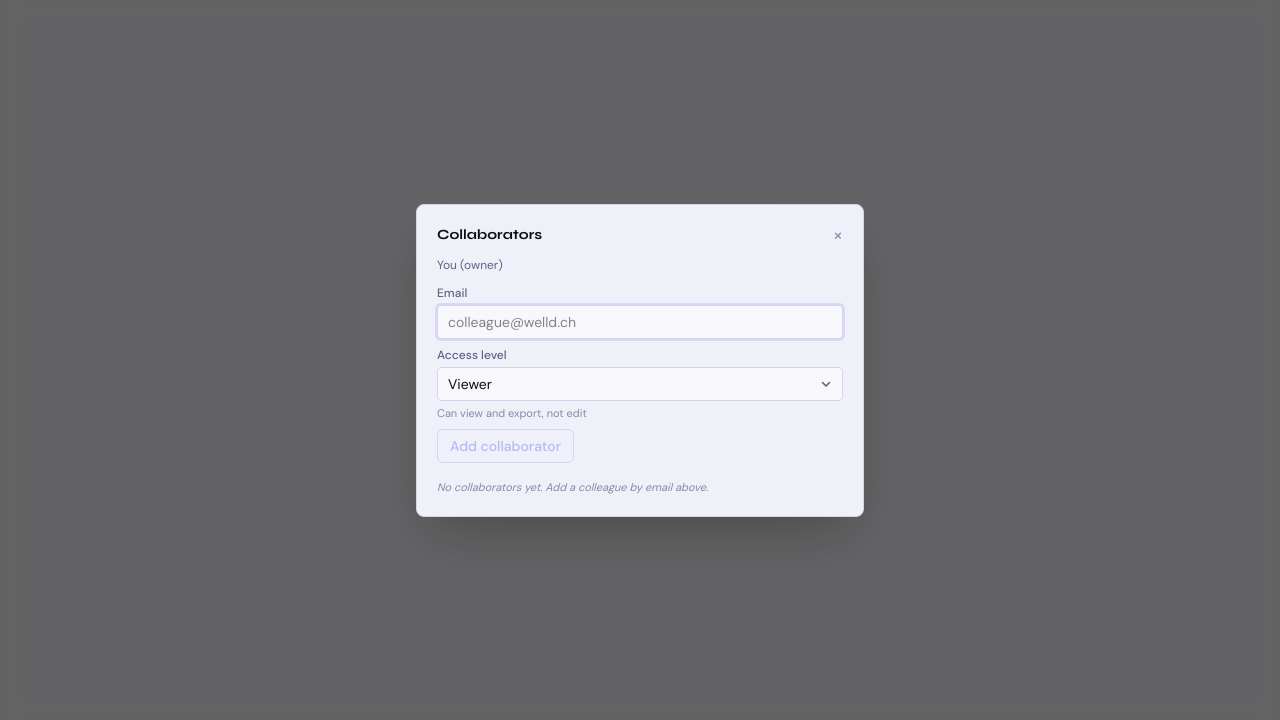
it: CollaboratorsDialog — owner mode (T20, specs/013) › generic 422 — no cause disclosed (AC-1.2) › renders the fixed notEligible copy and never the raw email or a cause word
Expected: the text "No collaborators yet. Add a colleague by email above." is shown, [437,480,708,494]
Type "nobody@example.com" into the field with test id "collaborators-dialog-email-input" at (640,322), box [437,304,843,338]
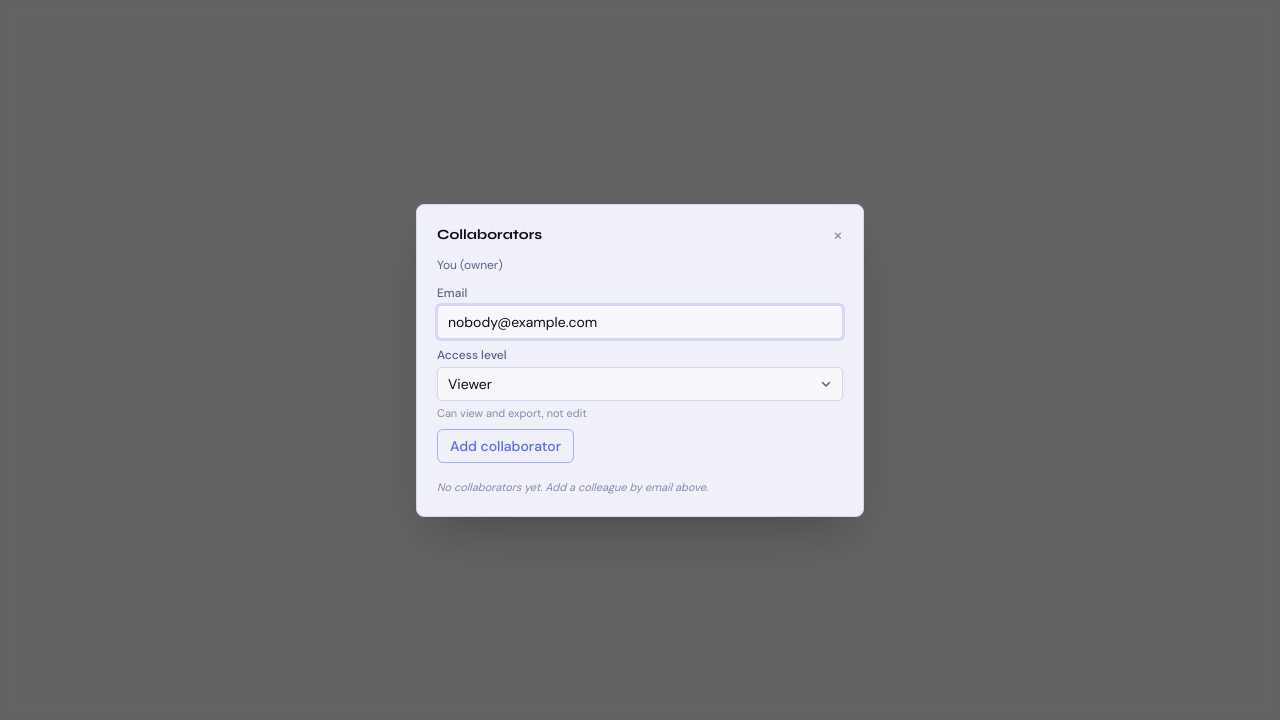
Click the button with test id "collaborators-dialog-add-button" at (506,446), box [437,429,574,463]
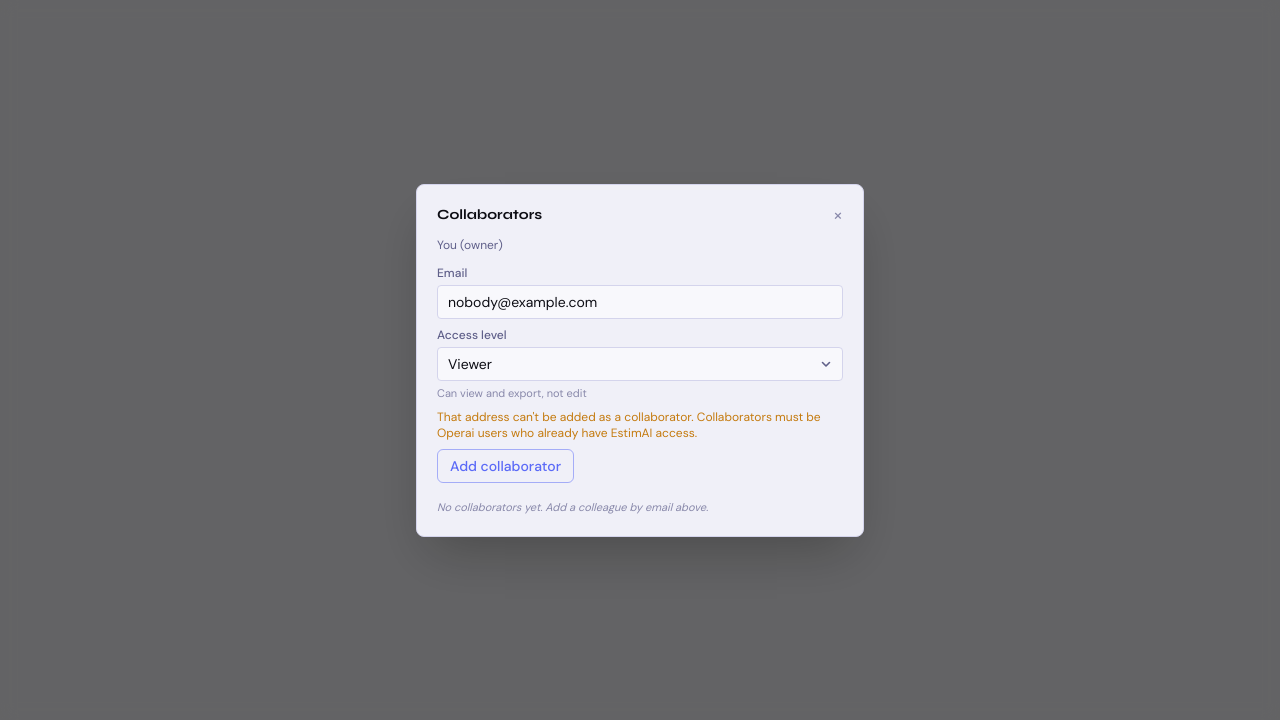
Expected: the element with test id "collaborators-dialog-add-error" does not show "nobody@example.com"
Expected: the message with test id "collaborators-dialog-add-error" shows "That address can't be added as a collaborator. Collaborators must be Operai users who already have EstimAI access.", [437,409,821,441]
